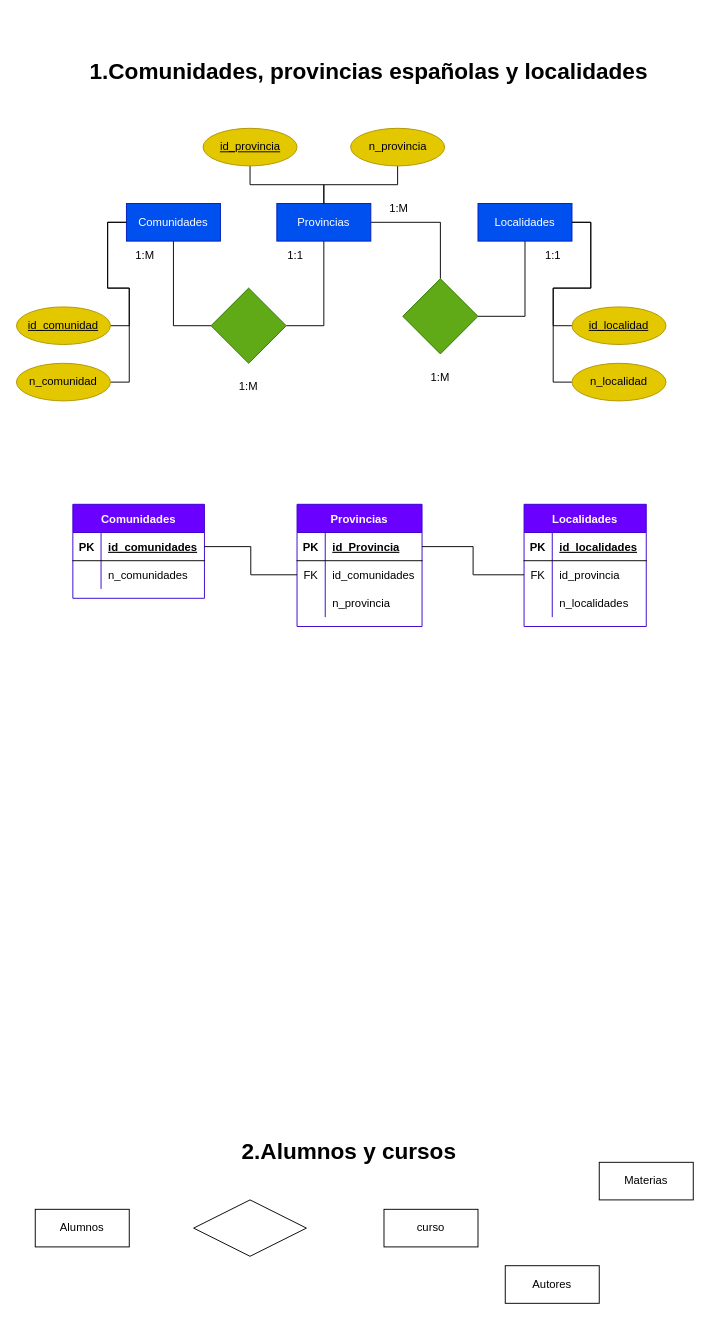
This 710x1320 diagram has some shape labels left out. Each missing label, with the centre of its shape:
"consta" belongs at (x=248, y=325).
"matricular" belongs at (x=249, y=1227).
"pertenece" belongs at (x=440, y=316).
